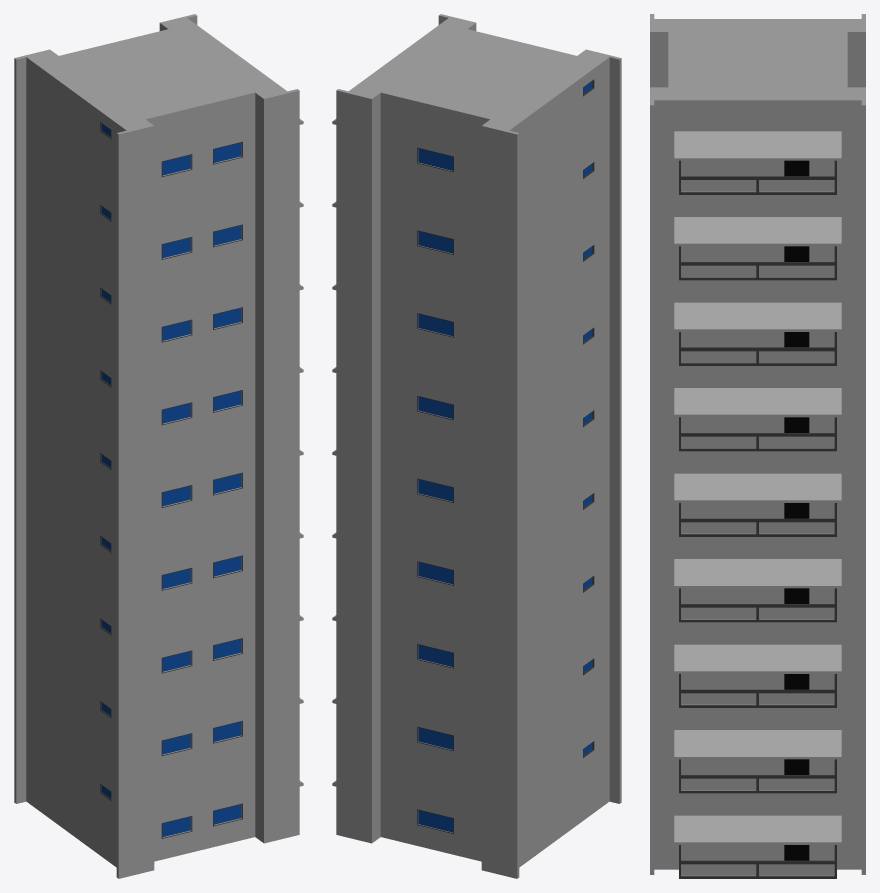
File: predio.obj
The picture shows the model from 3 angles, left to right: view 1: azimuth 30°, elevation 25°; view 2: azimuth 150°, elevation 25°; view 3: azimuth 270°, elevation 25°; orthographic projection. The views are drawn at different scales.
Parts seen in each view (by area): view 1: Cube_Cube_Predio, Cube_Cube_Janela, Cube_Cube_Suporte; view 2: Cube_Cube_Predio, Cube_Cube_Janela, Cube_Cube_Suporte; view 3: Cube_Cube_Predio, Cube_Cube_Suporte, Cube_Cube_Material.
Part boxes in pixels (x1,y1,x2,y2): Cube_Cube_Predio: (14,14,303,878); Cube_Cube_Janela: (102,124,241,836); Cube_Cube_Suporte: (100,122,242,838); Cube_Cube_Predio: (332,14,621,878); Cube_Cube_Janela: (418,81,592,832); Cube_Cube_Suporte: (417,79,594,833); Cube_Cube_Predio: (650,14,865,876); Cube_Cube_Suporte: (679,160,836,878); Cube_Cube_Material: (784,160,809,860).
Size of the model in its own units: 2.17 by 7.87 by 2.
